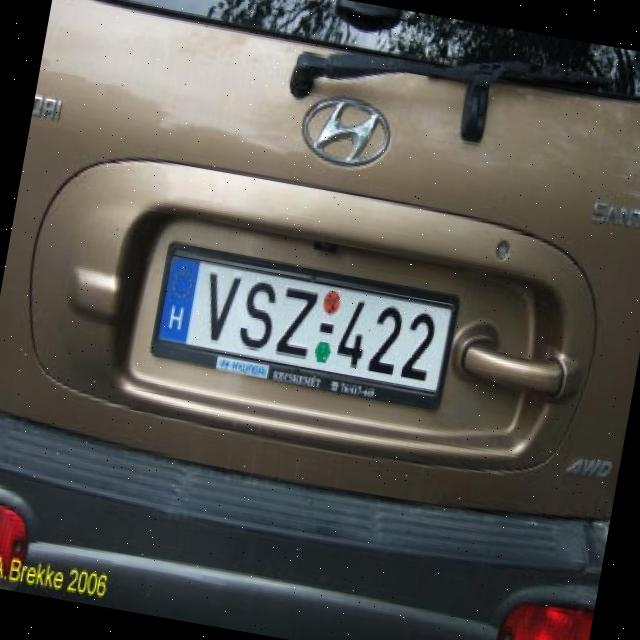licence: (150, 250, 461, 402)
